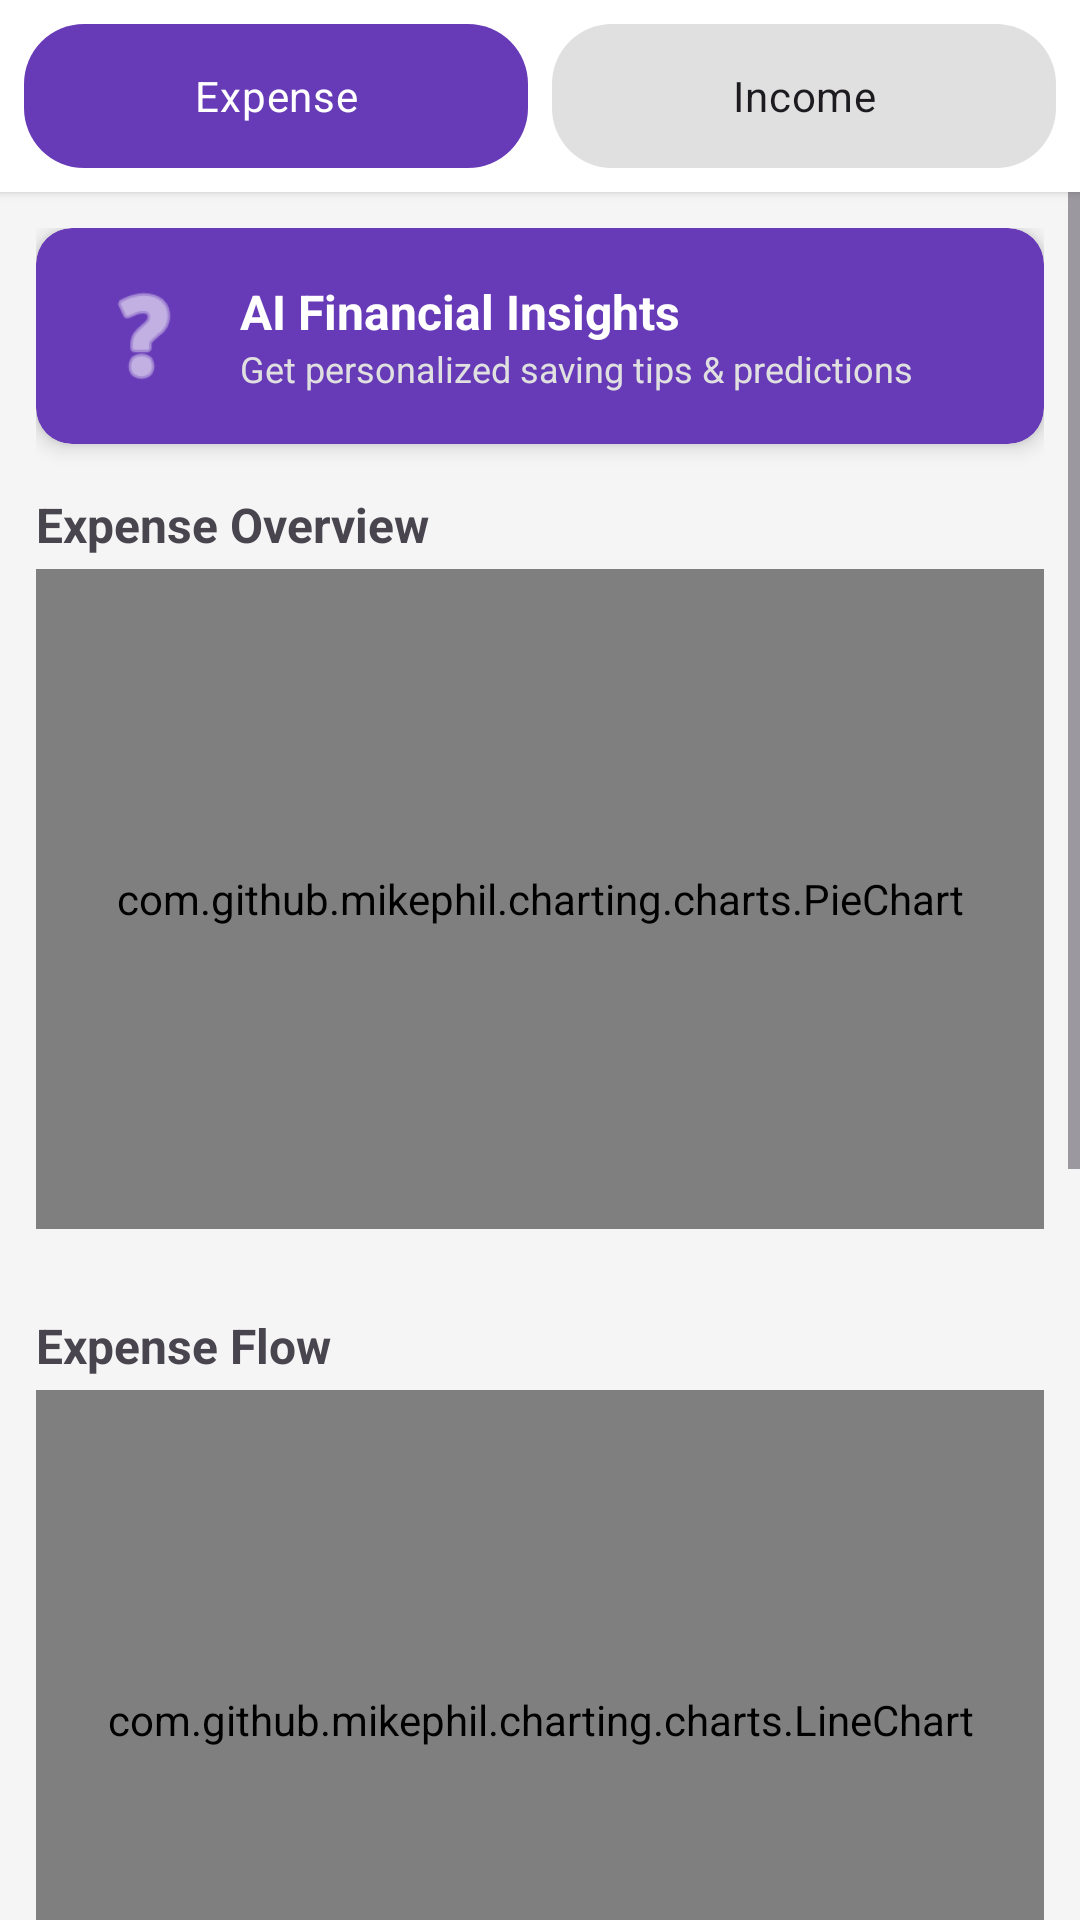

Named icons in this screenshot (1080 × 1920) and their bounding boxes, bbox=[x1, y1, x2, y2]:
help: bbox=[118, 293, 170, 379]
